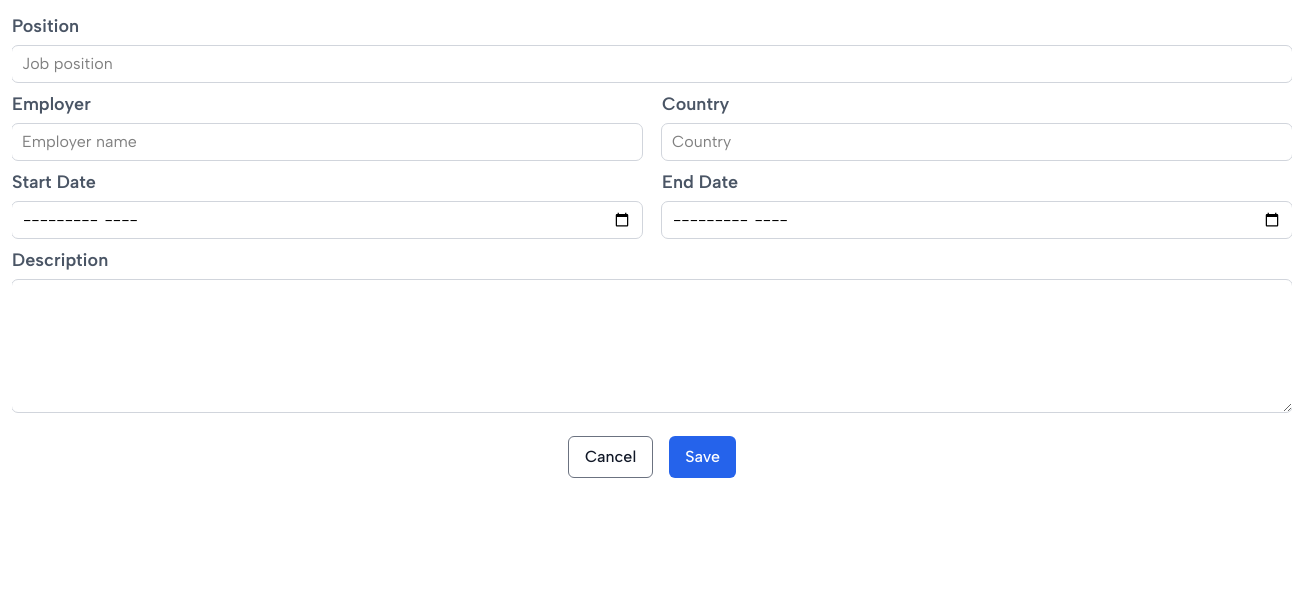
Test: ExperienceForm › shows validation errors when required fields are empty
Click the button "Save": (703, 457) [669,436,736,478]
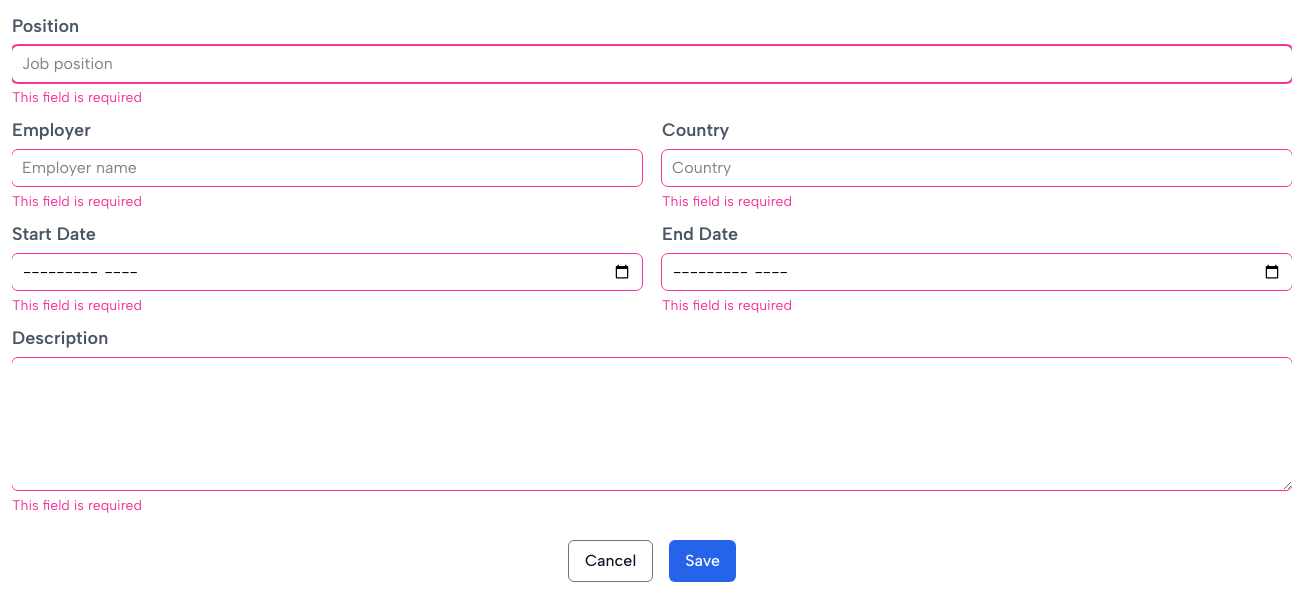
Check: the text "This field is required" is shown 6 times, box [12,89,142,106]; [12,193,142,210]; [662,193,792,210]; [12,297,142,314]; [662,297,792,314]; [12,497,142,514]
